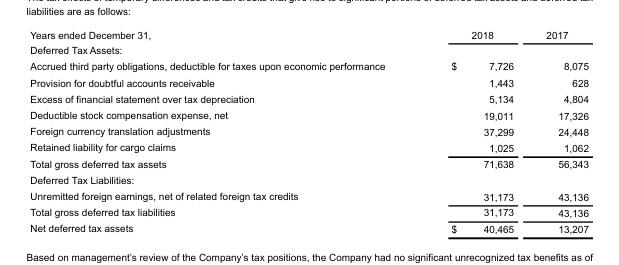table: (29, 28, 587, 234)
table column: (29, 28, 417, 234), (417, 28, 529, 234), (529, 28, 587, 234)
table column header: (29, 28, 587, 41)
table projected row header: (29, 41, 587, 57), (29, 171, 587, 187)
table row: (29, 57, 587, 74), (29, 122, 587, 139), (29, 203, 587, 220), (29, 41, 587, 57), (29, 74, 587, 90), (29, 90, 587, 106), (29, 106, 587, 122), (29, 139, 587, 155), (29, 155, 587, 171), (29, 171, 587, 187), (29, 187, 587, 203), (29, 220, 587, 234), (29, 28, 587, 41)
